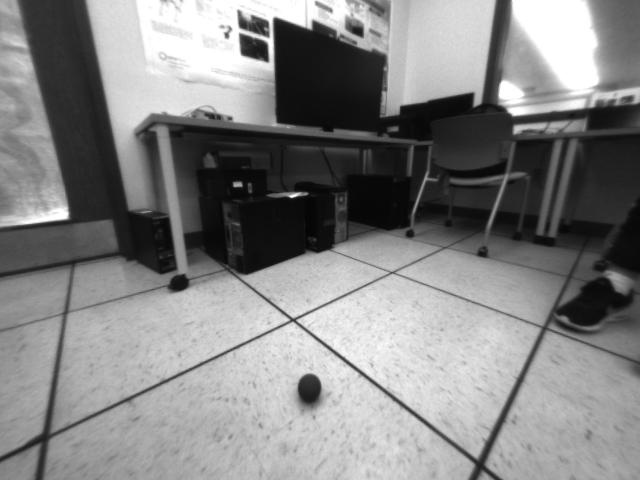dogtoy: (293, 368, 328, 407)
